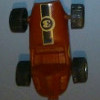rojo_norte: (10, 1, 88, 100)
